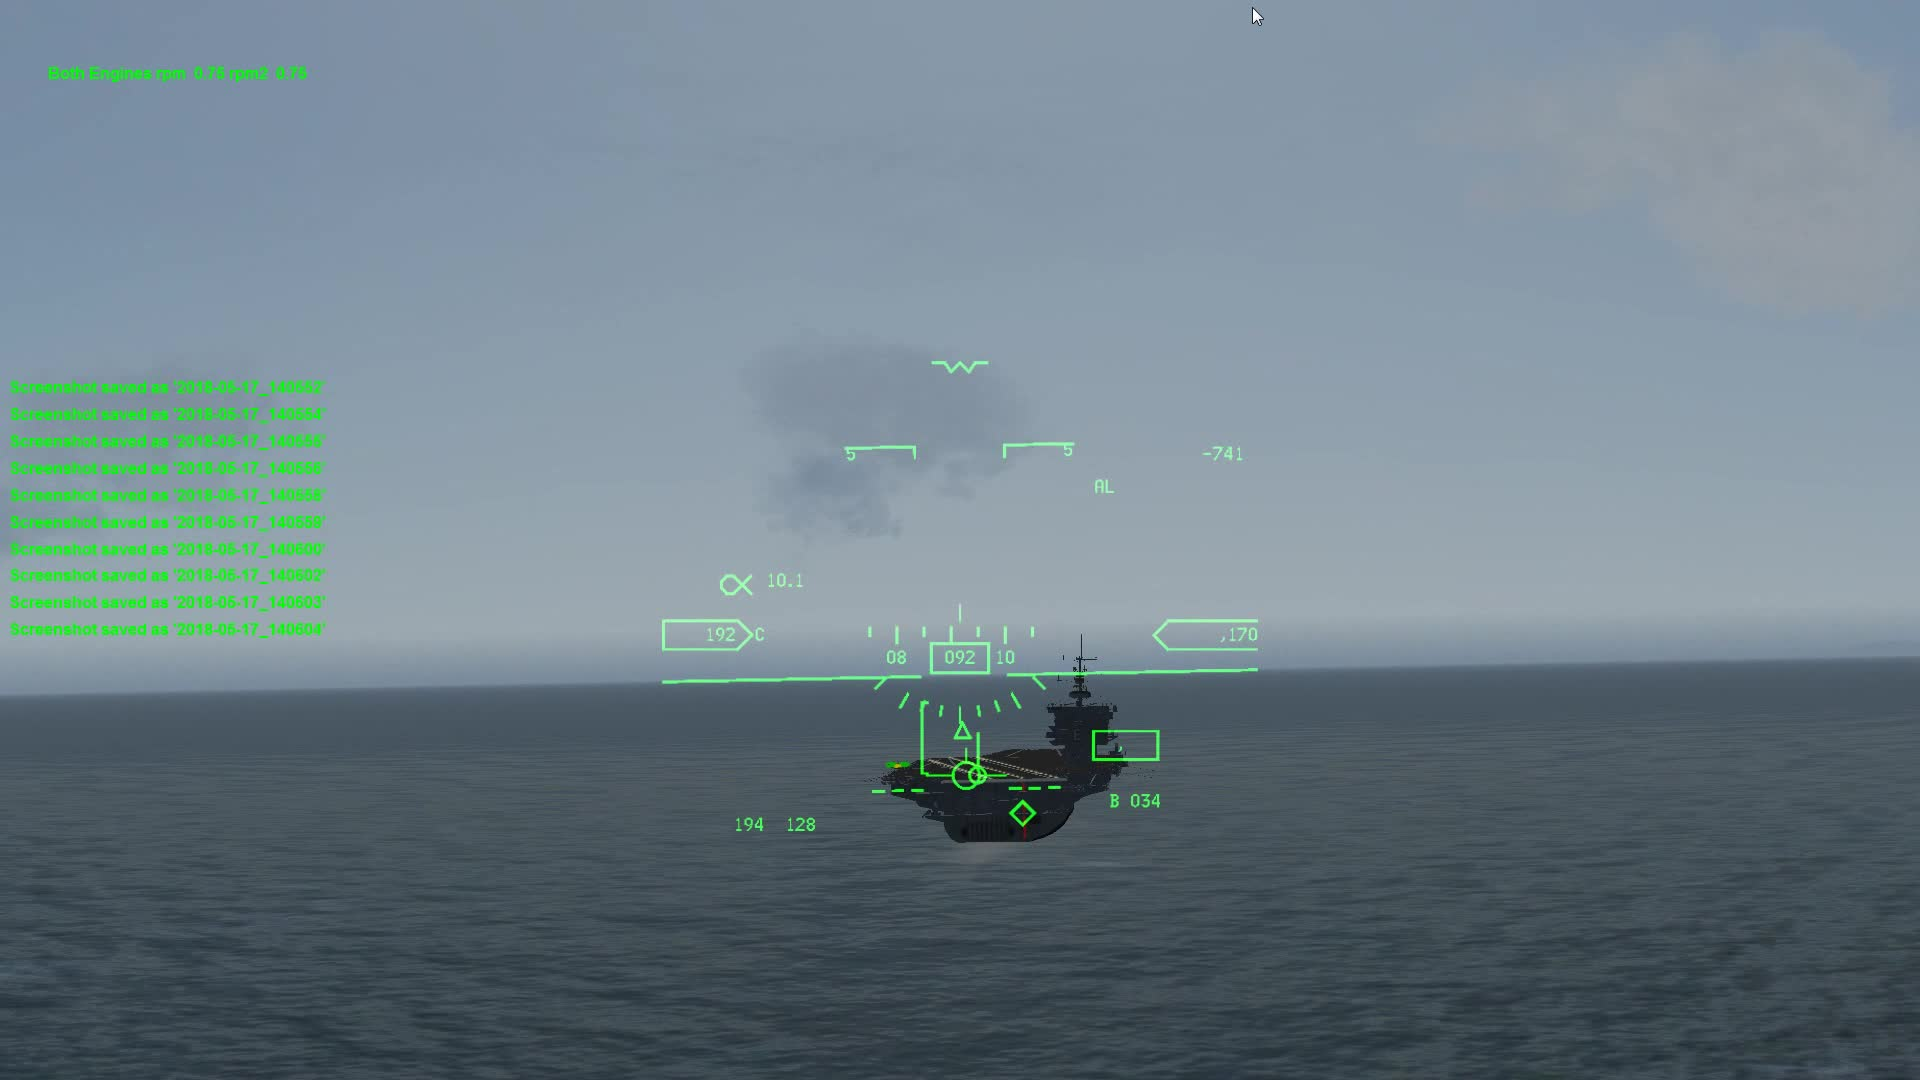speed vector: (927, 742, 1010, 794)
